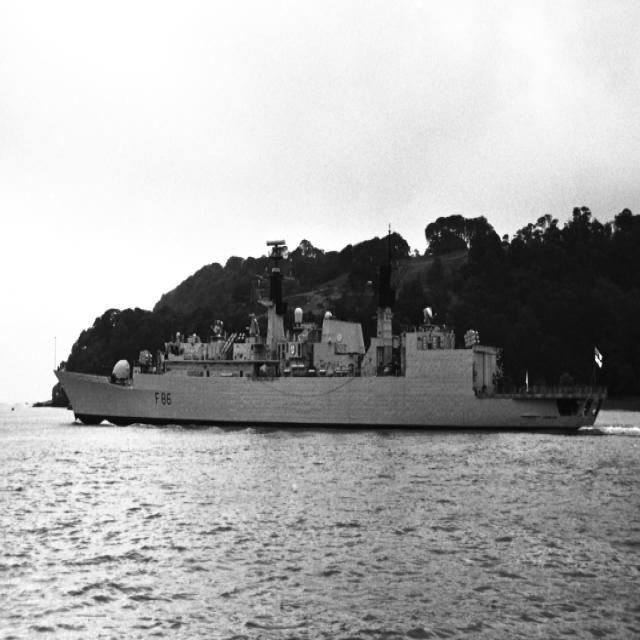Fragata: (52, 236, 611, 436)
